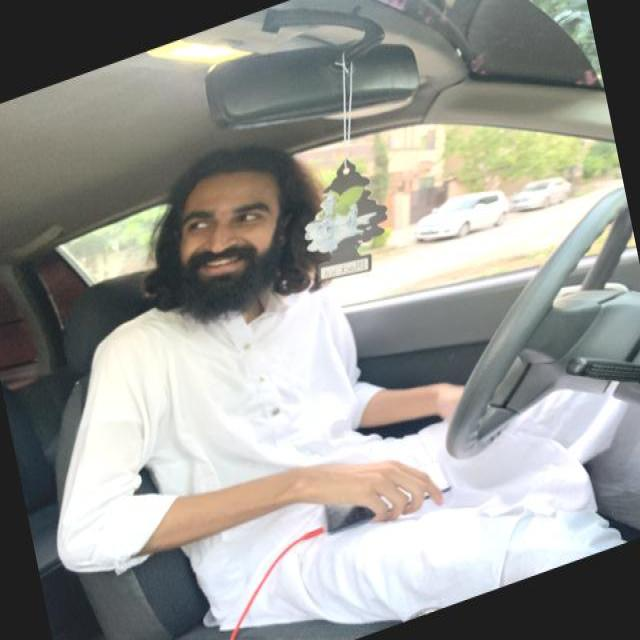no-seatbelt: (109, 286, 458, 602)
